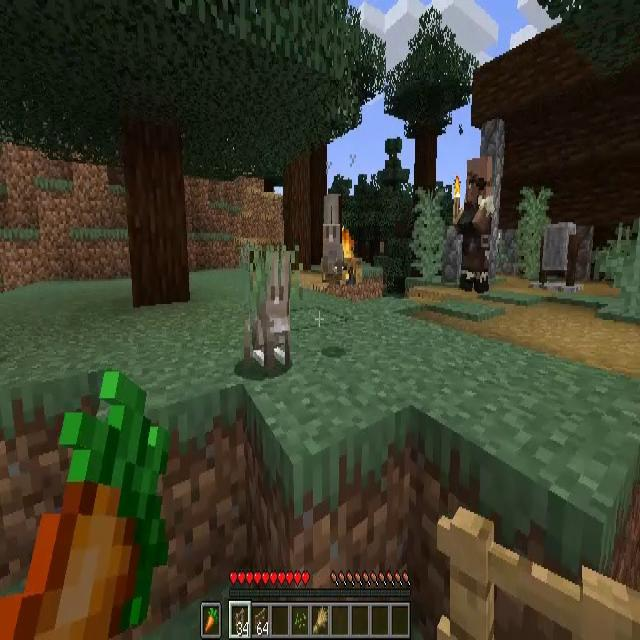people: (456, 157, 493, 292)
rabbit: (250, 251, 290, 367), (323, 196, 342, 280)
